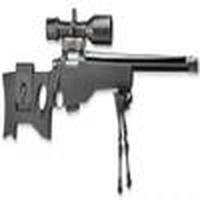gun: (1, 48, 191, 191)
